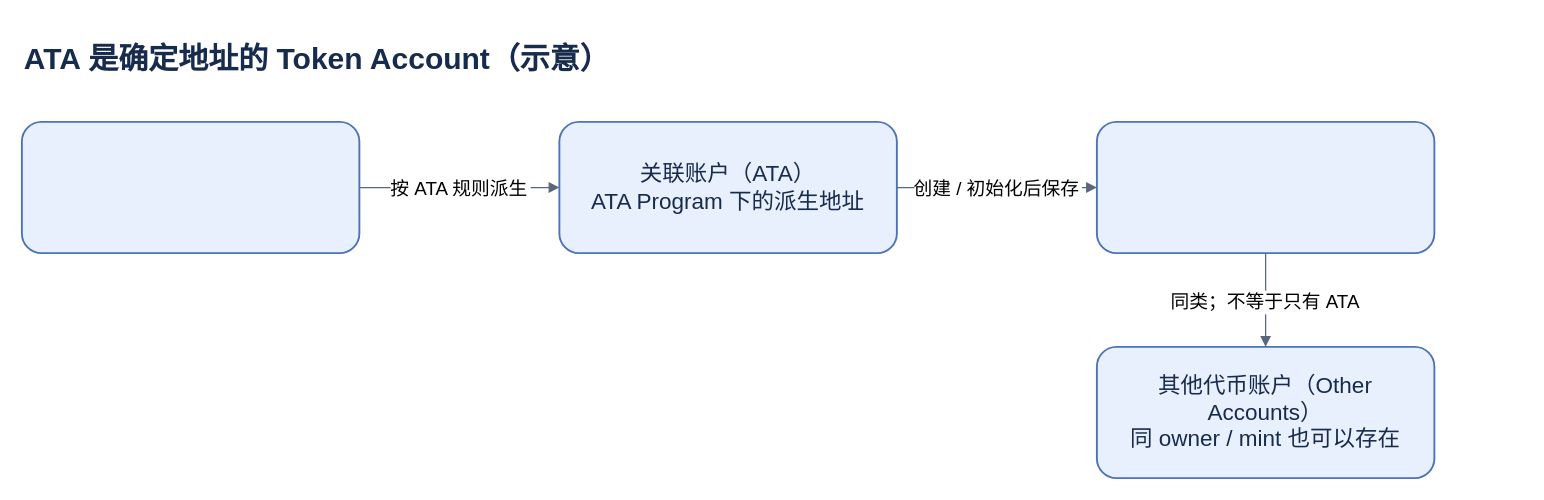
This 1544x500 diagram has some shape labels left out. The centre of each missing label's shape, as x and y in pixels:
代币状态（Token State） 基础 owner 是对应 Token Program: the point at 1265,187
派生输入（Derivation Inputs） owner + Token Program ID + mint: the point at 190,187
